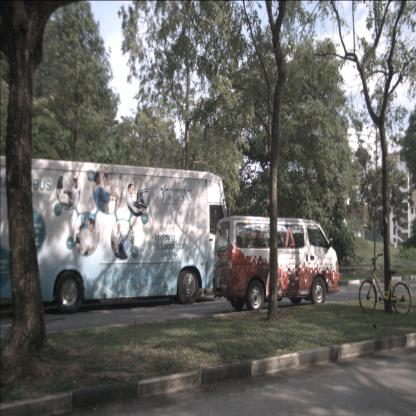vehicle-bicycle: (358, 253, 412, 316)
vehicle-bus-rigid: (0, 154, 229, 315)
vehicle-car: (212, 214, 340, 312)
